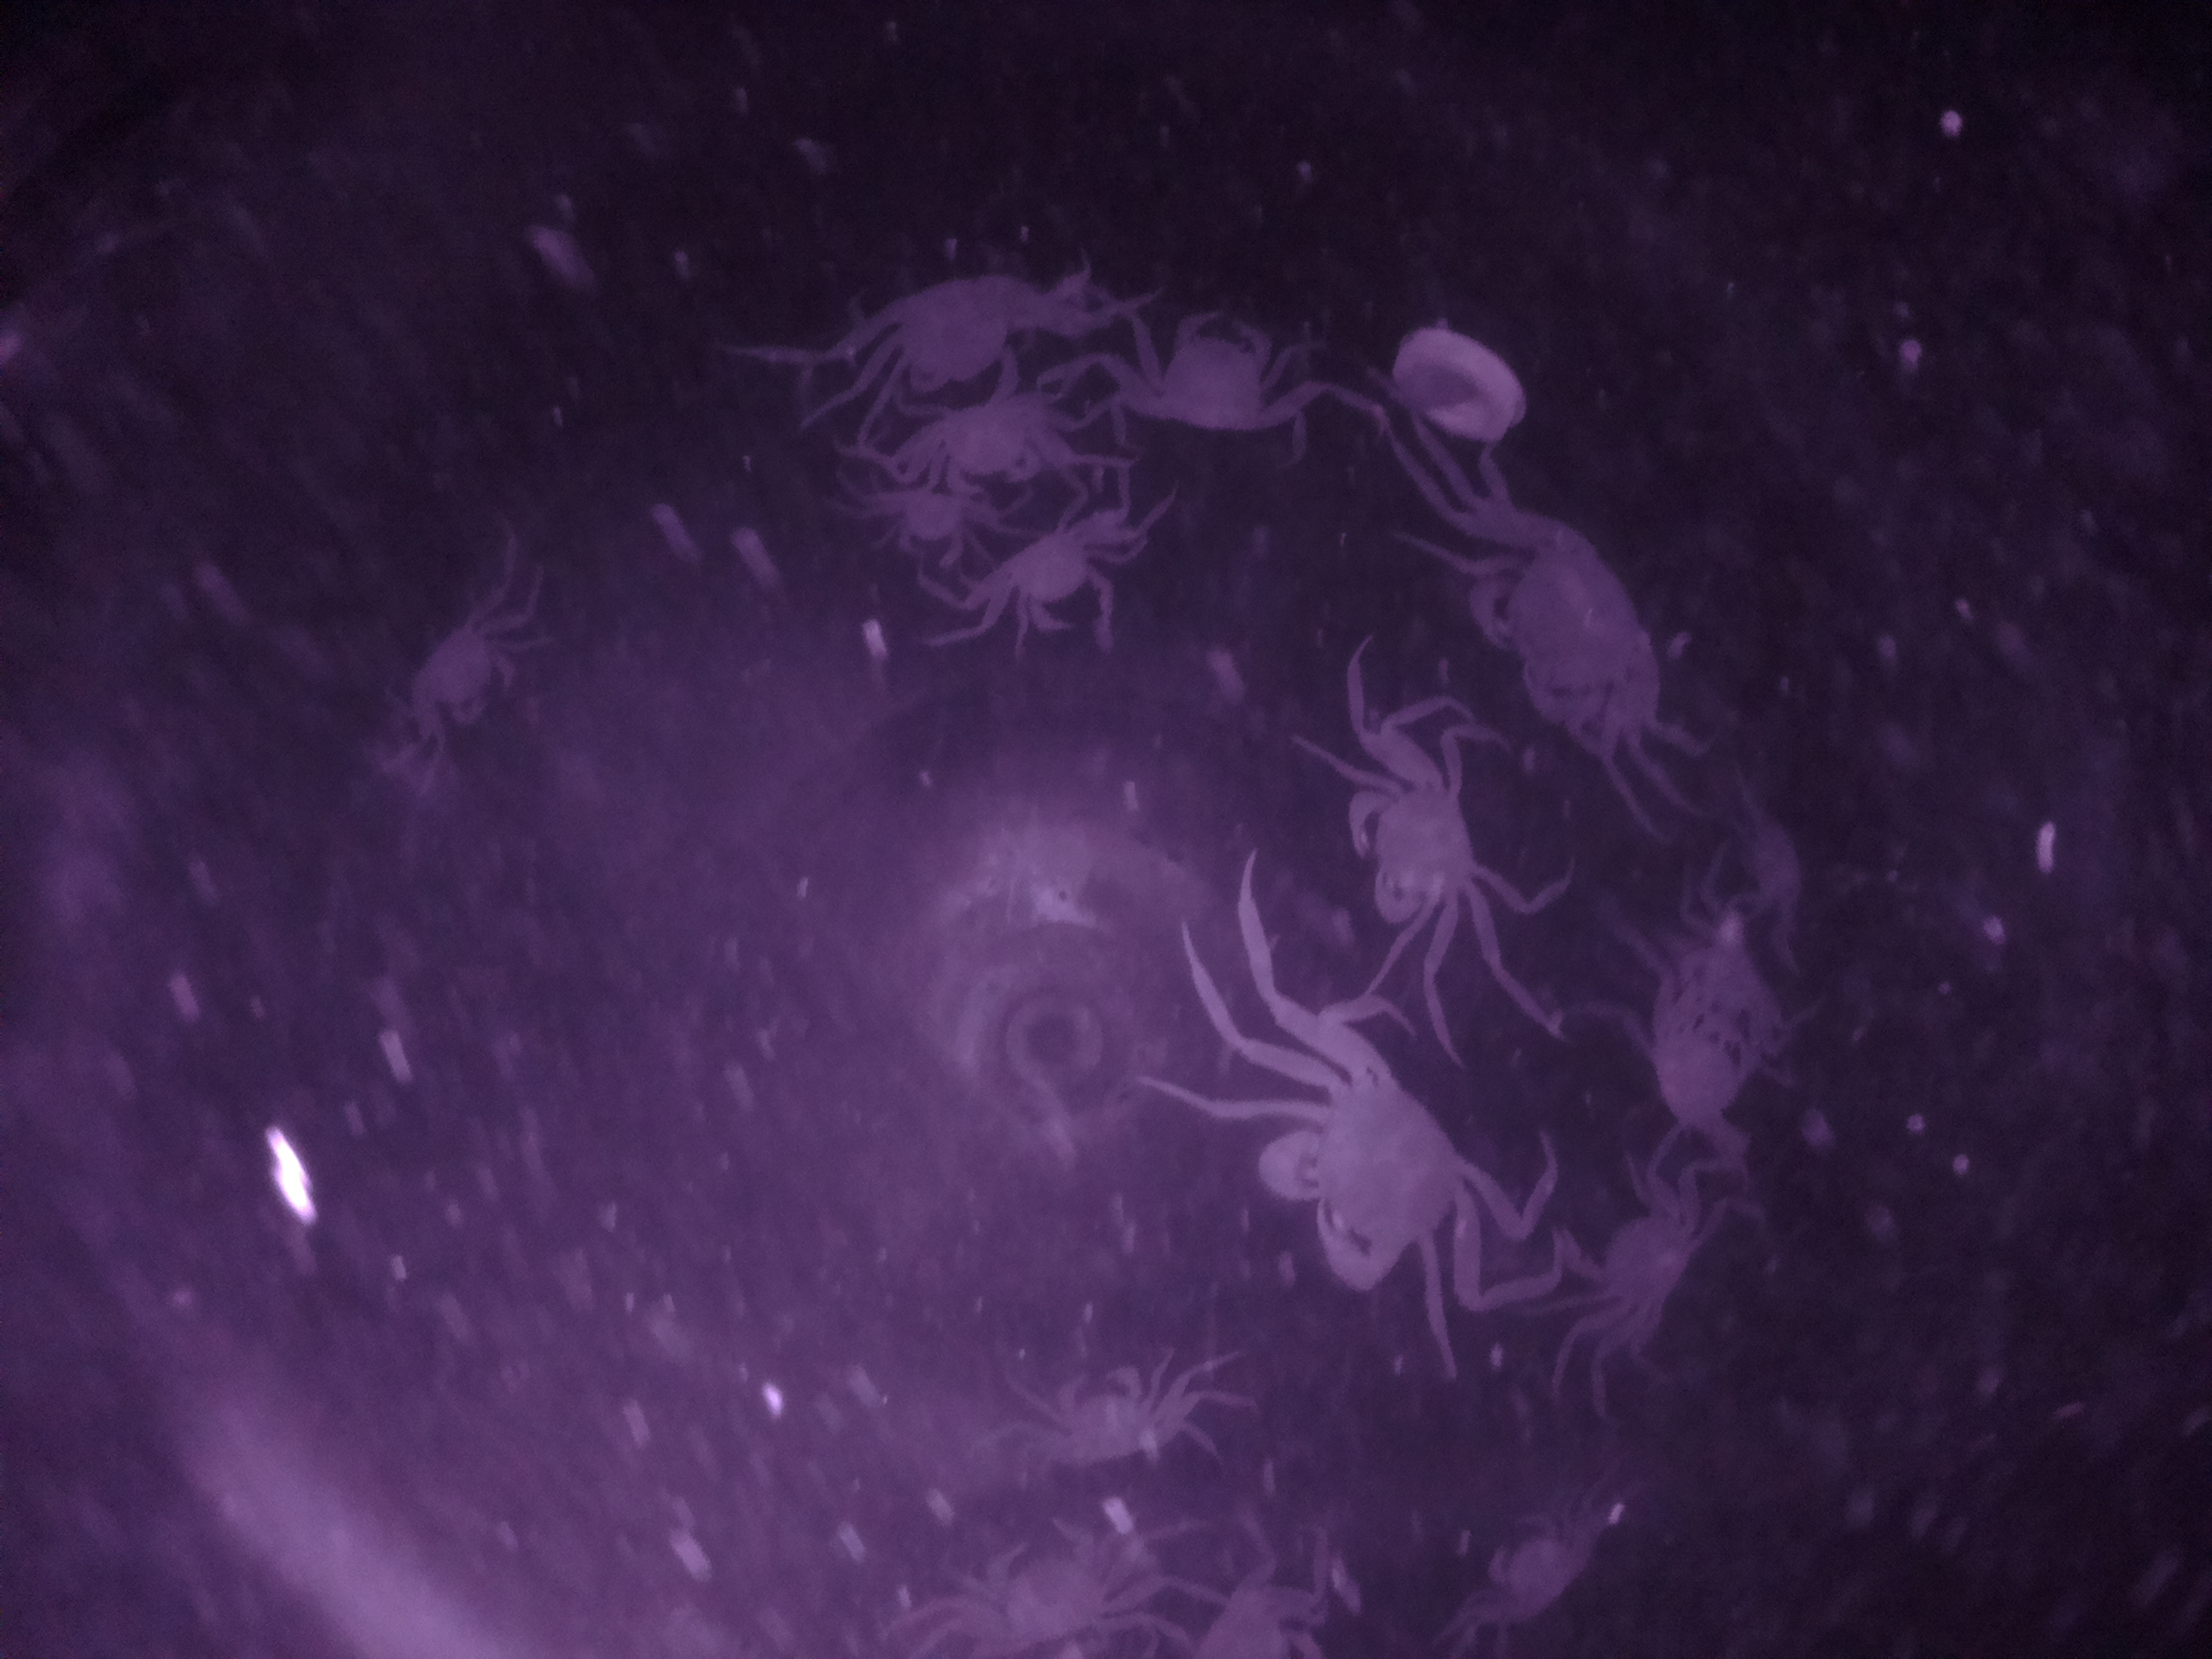Crab: (1233, 1026, 1498, 1319), (1453, 472, 1674, 755), (817, 246, 1073, 408), (935, 1506, 1162, 1659), (1555, 1159, 1714, 1364), (1336, 728, 1480, 948), (1134, 291, 1315, 457), (1022, 1352, 1198, 1478), (979, 509, 1122, 653), (399, 596, 536, 741), (906, 390, 1078, 502)
